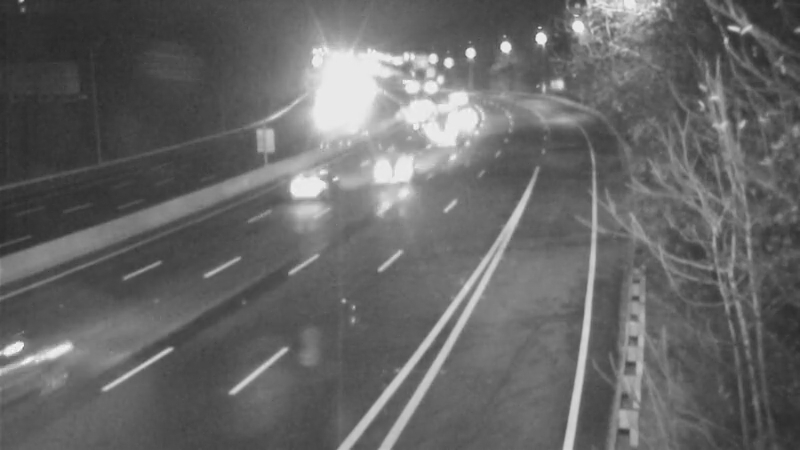vehicle: (1, 309, 96, 419), (350, 132, 430, 212), (272, 145, 352, 225), (403, 62, 453, 112), (415, 79, 465, 129), (394, 81, 444, 131), (384, 91, 434, 141), (441, 93, 491, 143), (416, 106, 466, 156), (301, 101, 351, 151)
